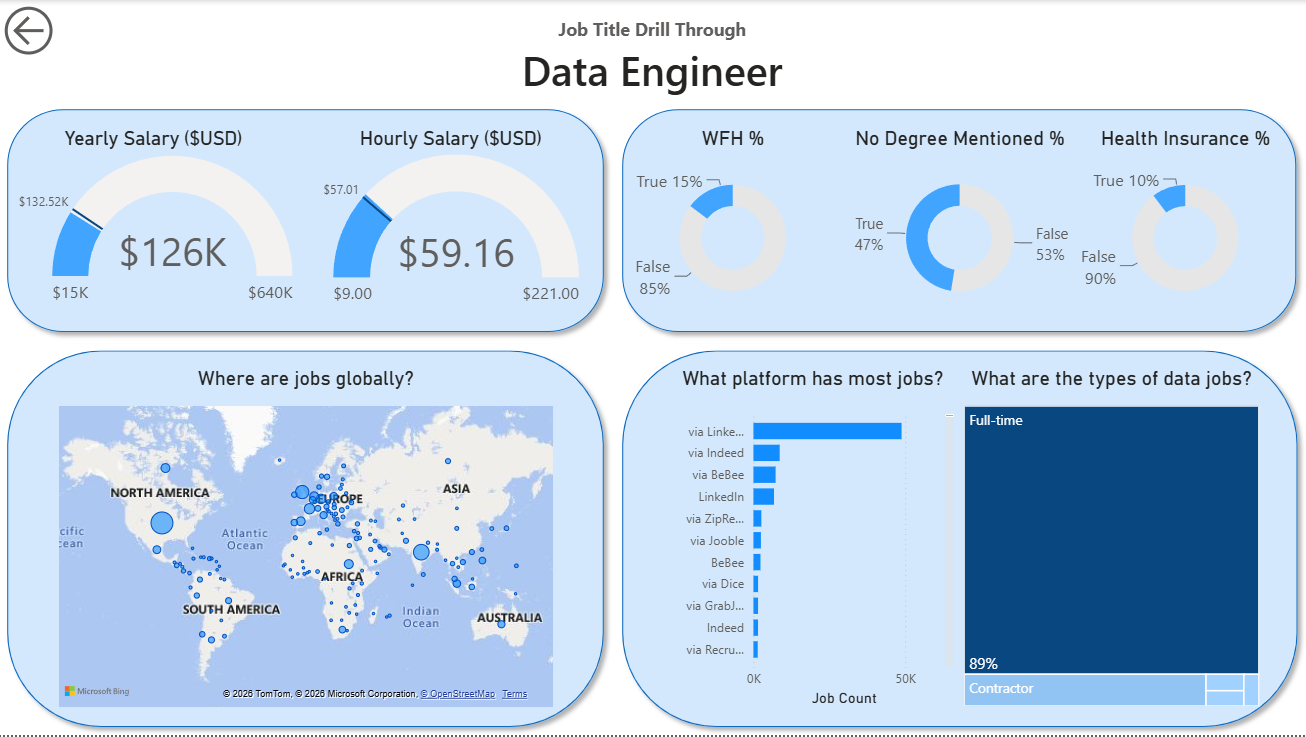

The page's visual inventory and layout, read from the dashboard file:
{"tool":"powerbi","page":{"name":"Job Title Drill Through","canvas":[1280,720],"ordinal":1},"visuals":[{"type":"group","id":"g1","title":"Background","box":[0,97.8,1280.3,622.4],"z":0},{"type":"cardVisual","fields":{"Data":["Min(job_postings_flat.job_title_short)1"]},"box":[328.9,0,622.4,111.3],"z":1000},{"type":"actionButton","box":[0,0,108.8,59.9],"z":2000},{"type":"gauge","title":" Yearly Salary ($USD)","fields":{"Y":["Median(job_postings_flat.salary_year_avg)"],"MinValue":["Min(job_postings_flat.salary_year_avg)1"],"MaxValue":["Max(job_postings_flat.salary_year_avg)2"],"TargetValue":["Avg(job_postings_flat.salary_year_avg)3"]},"box":[9.8,124.7,283.7,183.4],"z":3000},{"type":"gauge","title":"Hourly Salary ($USD)","fields":{"Y":["Median(job_postings_flat.salary_hour_avg)"],"MinValue":["Min(job_postings_flat.salary_hour_avg)"],"MaxValue":["Max(job_postings_flat.salary_hour_avg)"],"TargetValue":["Avg(job_postings_flat.salary_hour_avg)"]},"box":[293.5,124.7,298.4,183.4],"z":4000},{"type":"donutChart","title":"WFH %","fields":{"Category":["job_postings_flat.job_work_from_home"],"Y":["CountNonNull(job_postings_flat.job_work_from_home)"]},"box":[610.2,124.7,217.7,183.4],"z":5000},{"type":"donutChart","title":"No Degree Mentioned %","fields":{"Y":["CountNonNull(job_postings_flat.job_no_degree_mention)"],"Category":["job_postings_flat.job_no_degree_mention"]},"box":[827.9,124.7,226.2,183.4],"z":6000},{"type":"donutChart","title":"Health Insurance %","fields":{"Category":["job_postings_flat.job_health_insurance"],"Y":["CountNonNull(job_postings_flat.job_health_insurance)"]},"box":[1054.1,124.7,215.2,183.4],"z":7000},{"type":"map","title":"Where are jobs globally?","fields":{"Category":["job_postings_flat.job_country"],"Size":["CountNonNull(job_postings_flat.job_title_short)"]},"box":[55,359.5,492.8,336.3],"z":8000},{"type":"treemap","title":"What are the types of data jobs?","fields":{"Group":["job_postings_flat.job_schedule_type"],"Values":["CountNonNull(job_postings_flat.job_schedule_type)"]},"box":[940.4,359.5,298.4,336.3],"z":9000},{"type":"barChart","title":"What platform has most jobs?","fields":{"Category":["job_postings_flat.job_via"],"Y":["CountNonNull(job_postings_flat.job_via)"]},"box":[654.2,359.5,286.1,336.3],"z":10000},{"type":"shape","box":[0,97.8,601.6,236],"z":13062,"group":"g1"},{"type":"shape","box":[601.6,97.8,677.4,236],"z":13125,"group":"g1"},{"type":"shape","box":[0,333.8,601.6,386.4],"z":13250,"group":"g1"},{"type":"shape","box":[601.6,333.8,678.7,386.4],"z":13500,"group":"g1"}]}

Visuals, with their boxes in screenshot pixels (x1, y1, x2, y2), scaled from the page's 1280x720 canvas onto the 1306x737 screenshot:
"Background" group: 0 100 1305 736
cardVisual - Min(job_postings_flat.job_title_short)1: 336 0 971 114
actionButton: 0 0 111 61
" Yearly Salary ($USD)" gauge: 10 128 299 315
"Hourly Salary ($USD)" gauge: 299 128 604 315
"WFH %" donutChart: 623 128 845 315
"No Degree Mentioned %" donutChart: 845 128 1076 315
"Health Insurance %" donutChart: 1076 128 1295 315
"Where are jobs globally?" map: 56 368 559 712
"What are the types of data jobs?" treemap: 960 368 1264 712
"What platform has most jobs?" barChart: 667 368 959 712
shape: 0 100 614 342
shape: 614 100 1305 342
shape: 0 342 614 736
shape: 614 342 1305 736
